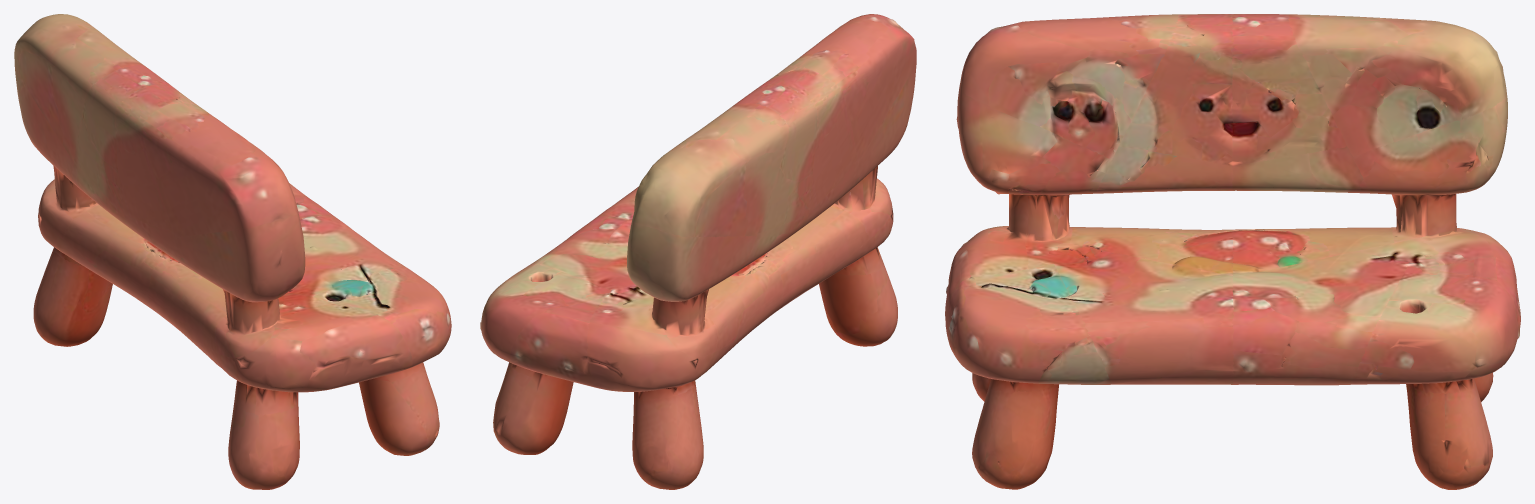
File: env_nest_bench_01.glb
3 renders of one model, left to right at view 1: azimuth 30°, elevation 25°; view 2: azimuth 150°, elevation 25°; view 3: azimuth 270°, elevation 25°, orthographic. The views are drawn at different scales.
Visible parts, largest first — view 1: env_nest_bench_01; view 2: env_nest_bench_01; view 3: env_nest_bench_01.
Boxes of the visible parts, x1,y1,x2,y2 form: env_nest_bench_01: (14, 14, 451, 489); env_nest_bench_01: (480, 14, 916, 489); env_nest_bench_01: (945, 14, 1520, 489).
Bounding box in the file's own units: 0.4419 × 0.6 × 0.8284.
1 material, 1 textured.
